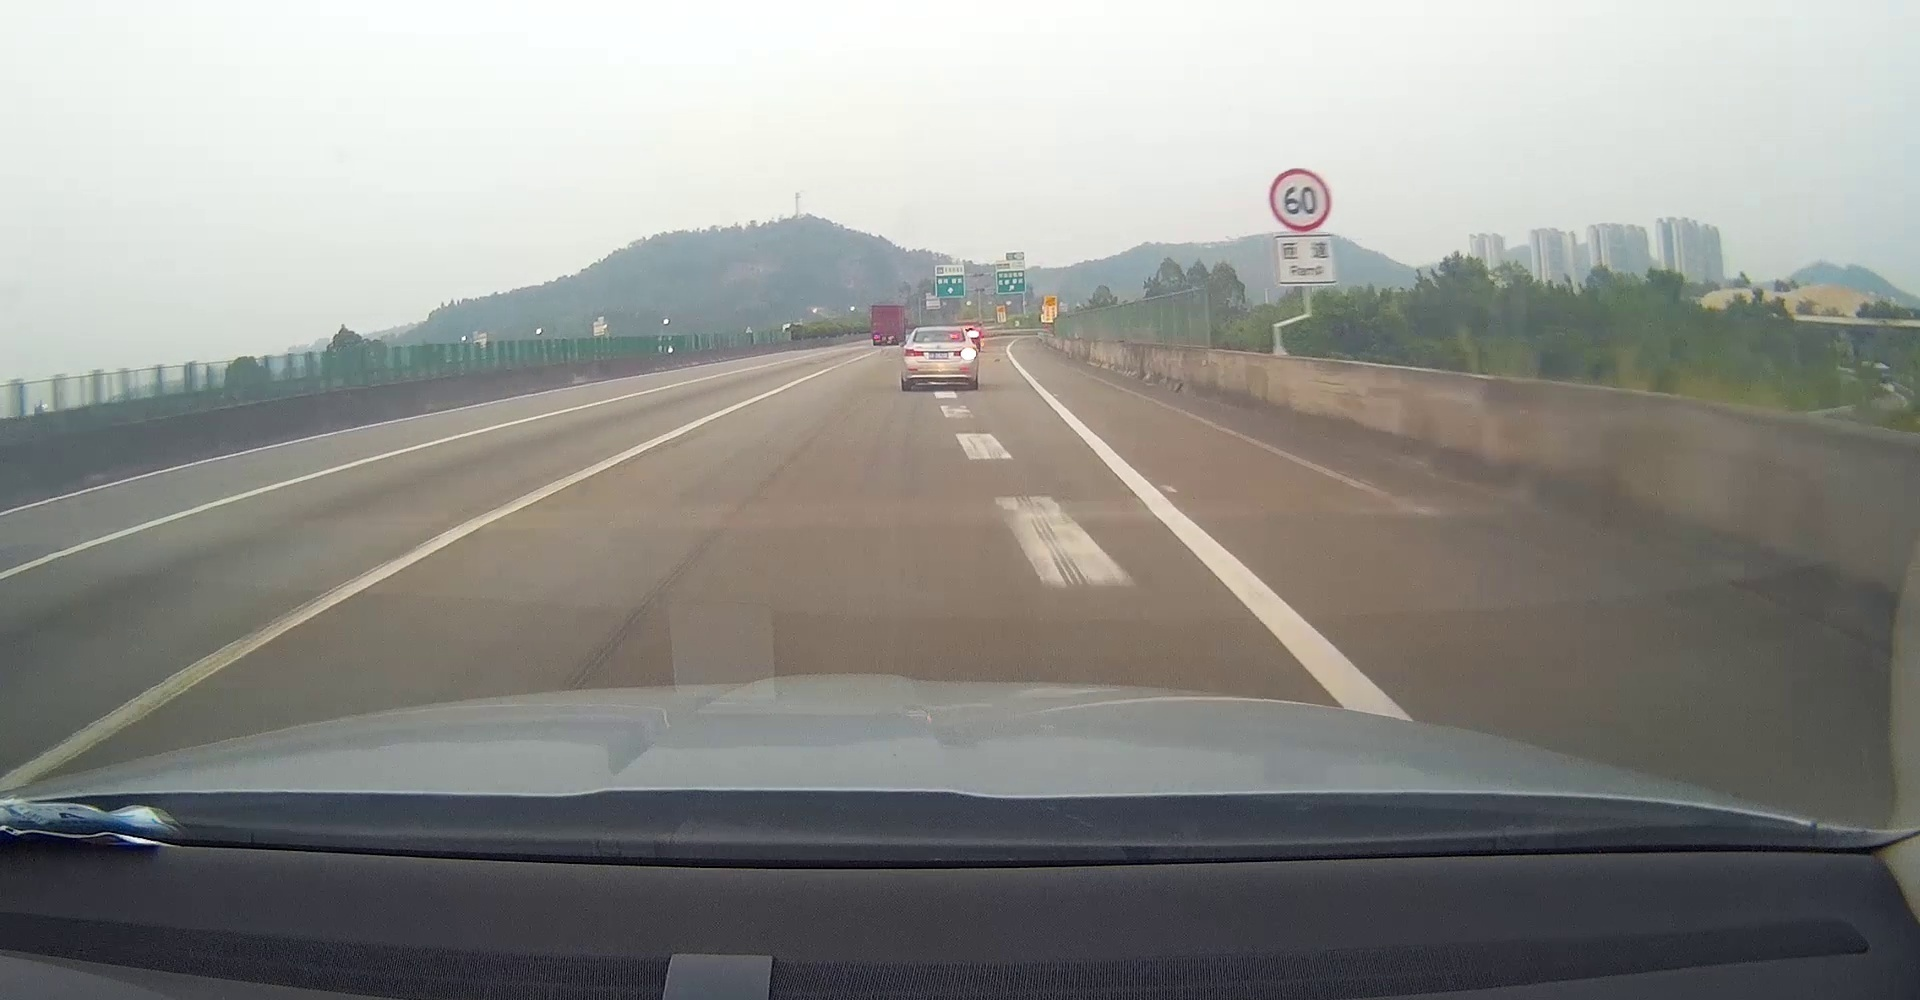L_light: (904, 349, 924, 357)
R_light: (954, 348, 977, 359)
T_light: (931, 338, 943, 341)
day-right: (902, 327, 978, 390)
